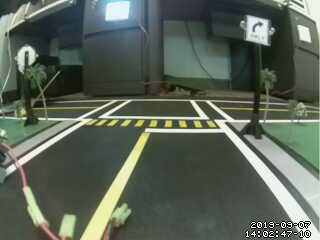Right_only_sign: (243, 13, 276, 53)
